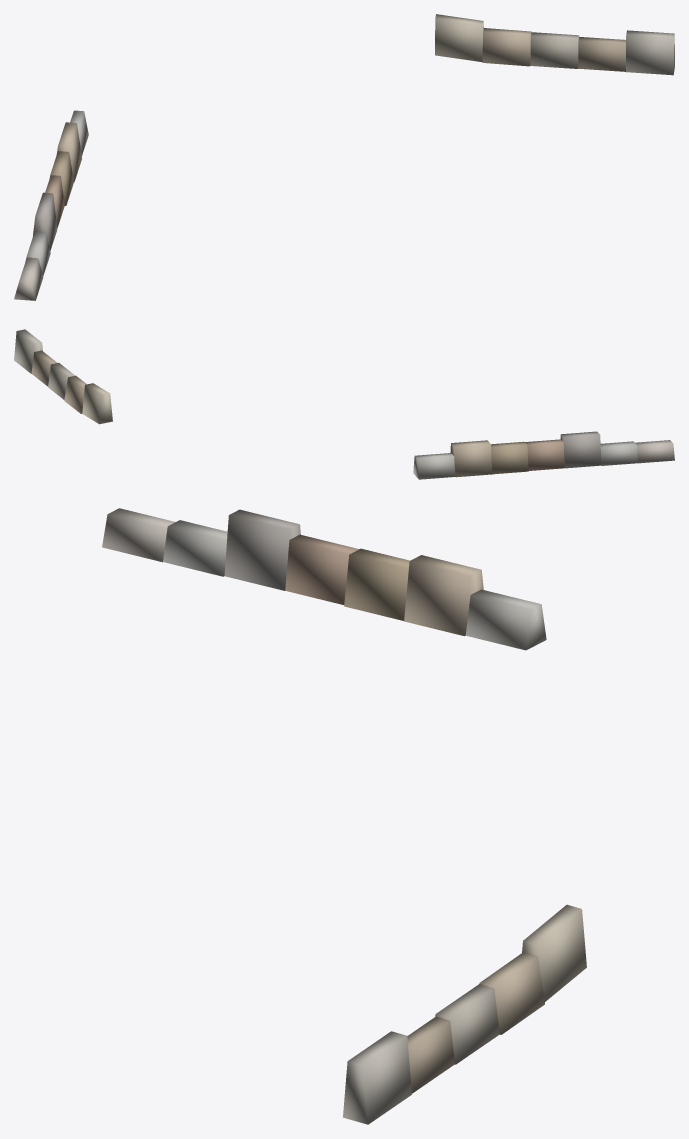
File: farm_-15_-22_collision.glb
3 renders of one model, top to bottom at view 1: azimuth 30°, elevation 25°; view 2: azimuth 150°, elevation 25°; view 3: azimuth 270°, elevation 25°, orthographic. The views are drawn at different scales.
Parts seen in each view (by area): view 1: geometry_0; view 2: geometry_0; view 3: geometry_0.
Boxes of the visible parts, x1,y1,x2,y2 form: geometry_0: (14,14,674,300); geometry_0: (14,329,674,479); geometry_0: (102,508,586,1124).
Bounding box in the file's own units: 28.33 × 2.2 × 9.91.
